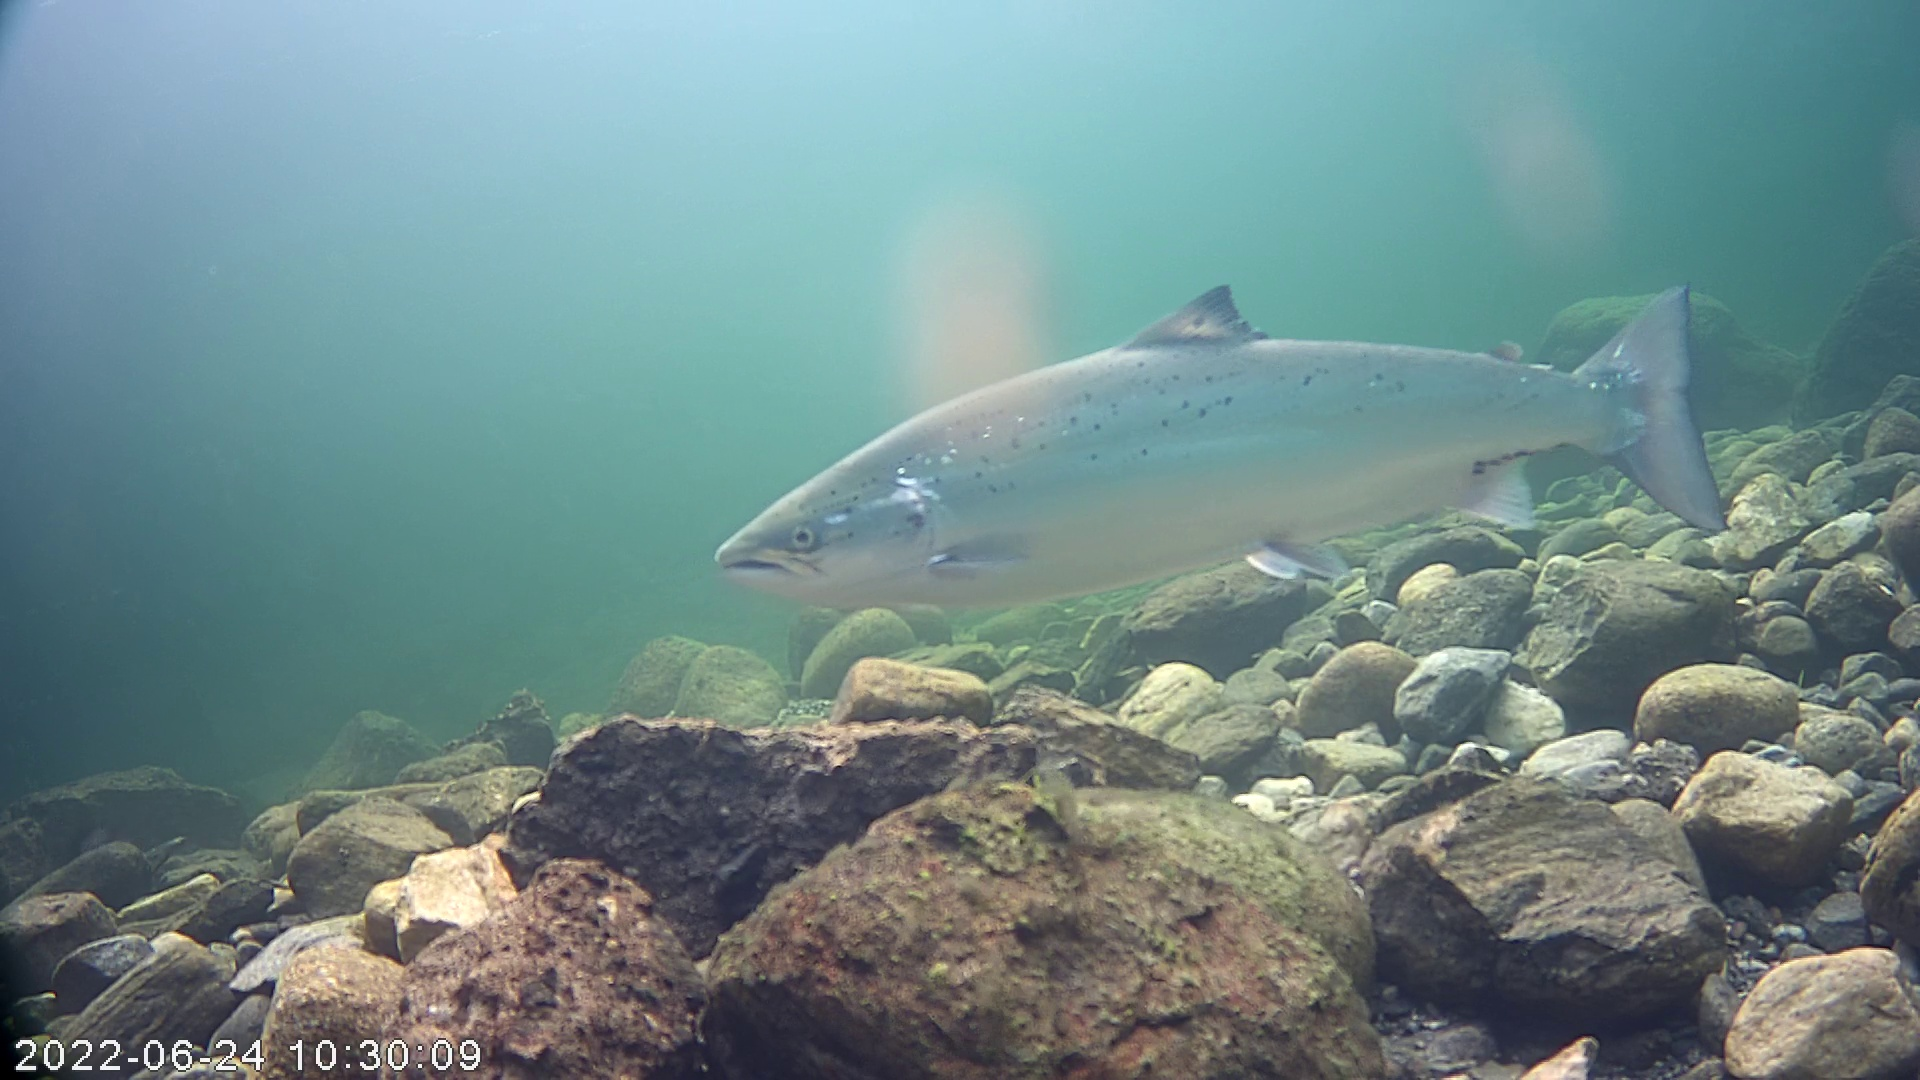salmon: (711, 281, 1734, 613)
